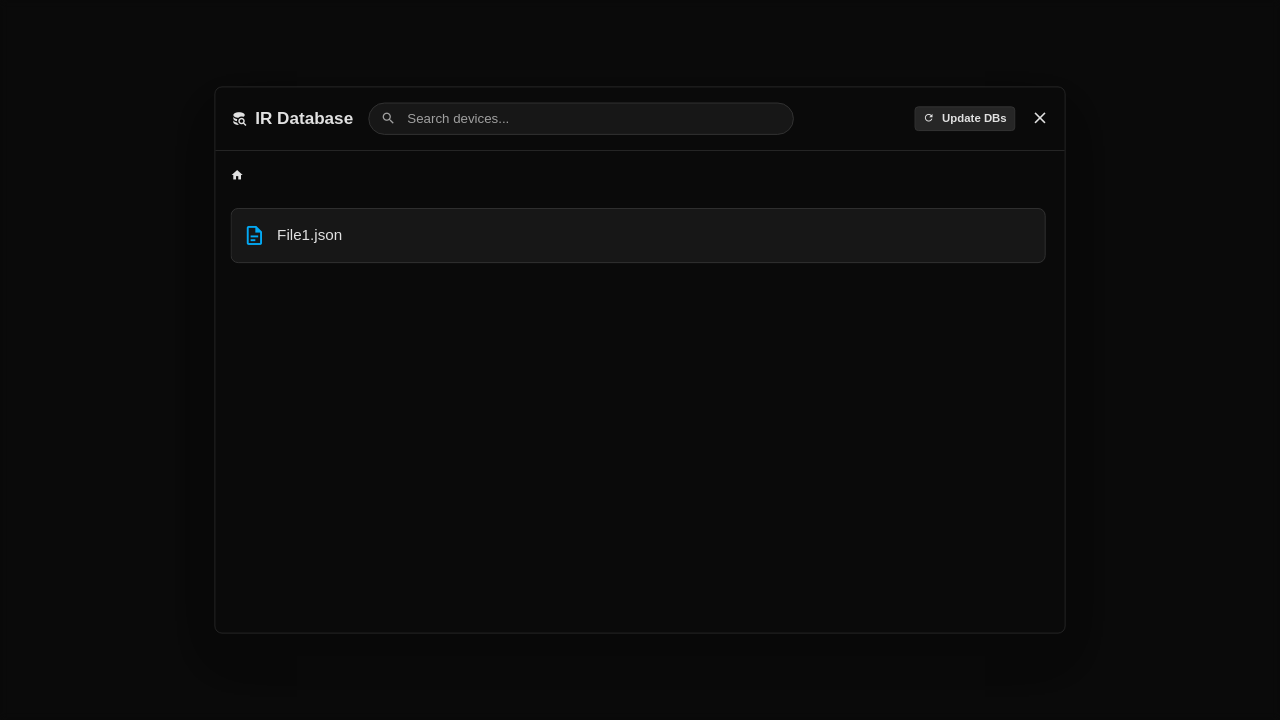
Test case: IrDbPicker.vue › formats code details correctly
Click the icon with class "mdi-file-document-outline" at (254, 236), box top-left (243, 220), bottom-right (266, 251)
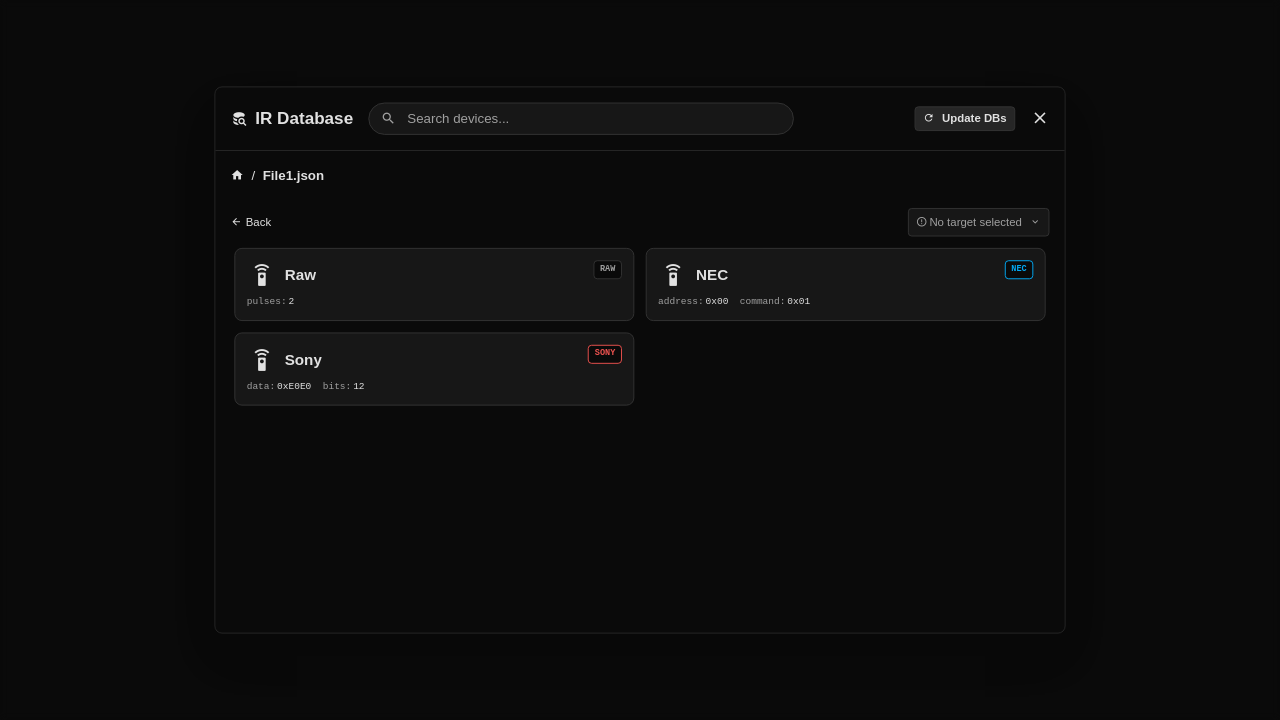
Expected: the element with class "relative" shows "pulses", top-left (247, 296), bottom-right (287, 307)
Expected: the element with class "relative" shows "2", top-left (288, 296), bottom-right (294, 307)
Expected: the element with class "relative" shows "address", top-left (658, 296), bottom-right (704, 307)
